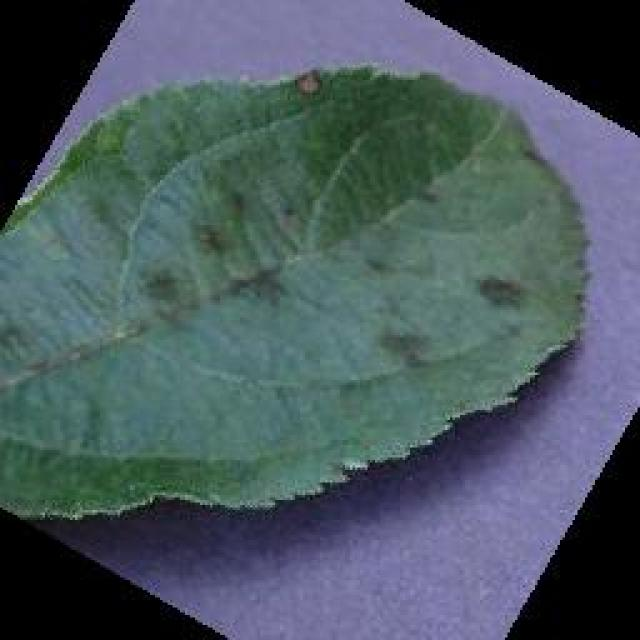apple scab disease: (0, 59, 592, 522)
